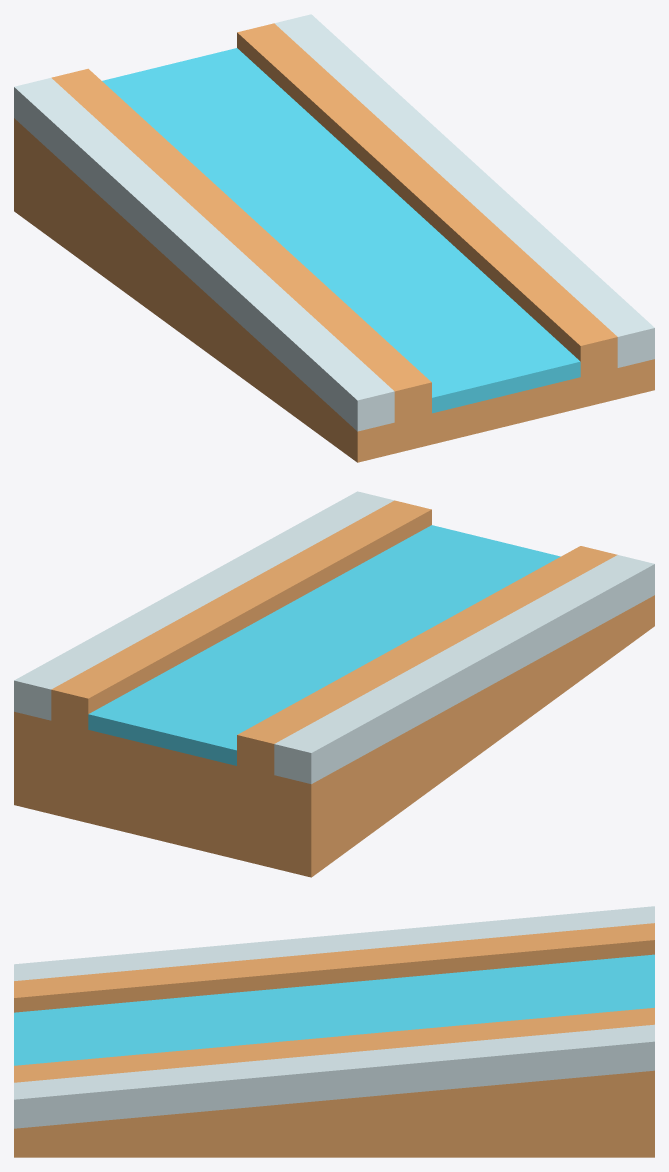
The model's file is snow_tile_riverSlopeLarge.dae.
3 views of the same model, one above another, from view 1: azimuth 30°, elevation 25°; view 2: azimuth 150°, elevation 25°; view 3: azimuth 270°, elevation 25° (orthographic). The views are drawn at different scales.
Parts seen in each view (by area): view 1: snow_tile_riverSlopeLarge; view 2: snow_tile_riverSlopeLarge; view 3: snow_tile_riverSlopeLarge.
Boxes of the visible parts, x1,y1,x2,y2 form: snow_tile_riverSlopeLarge: (14,14,654,462); snow_tile_riverSlopeLarge: (14,491,654,877); snow_tile_riverSlopeLarge: (14,906,654,1157).
Bounding box in the file's own units: 1 × 0.4 × 2.
